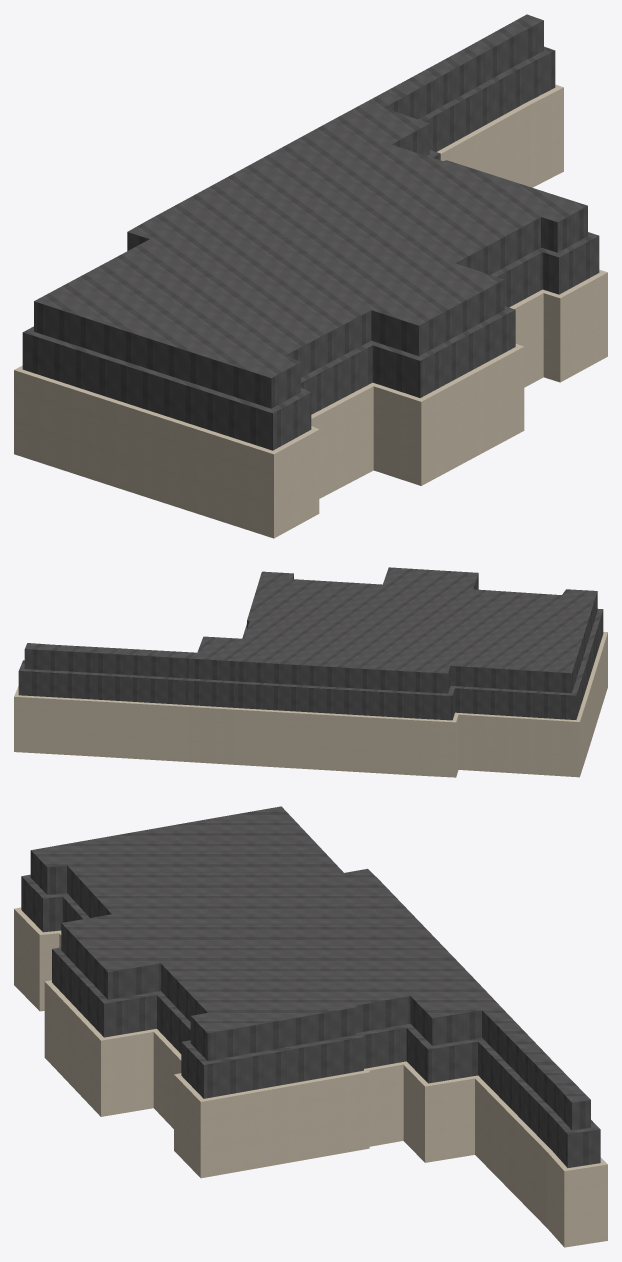
3 views of the same model, one above another, from view 1: azimuth 30°, elevation 25°; view 2: azimuth 150°, elevation 25°; view 3: azimuth 270°, elevation 25° (orthographic). The views are drawn at different scales.
Parts seen in each view (by area): view 1: lmbase_231220414_roof_b, lmbase_231220414, lmbase_231220414_roof_a; view 2: lmbase_231220414_roof_b, lmbase_231220414, lmbase_231220414_roof_a; view 3: lmbase_231220414_roof_b, lmbase_231220414, lmbase_231220414_roof_a.
Boxes of the visible parts, box(x1,y1,x2,y2) form: lmbase_231220414_roof_b: box(34, 14, 587, 408); lmbase_231220414: box(14, 84, 607, 538); lmbase_231220414_roof_a: box(22, 46, 599, 450); lmbase_231220414_roof_b: box(24, 567, 597, 693); lmbase_231220414: box(14, 632, 607, 777); lmbase_231220414_roof_a: box(18, 609, 603, 720); lmbase_231220414_roof_b: box(30, 806, 590, 1130); lmbase_231220414: box(14, 907, 607, 1247); lmbase_231220414_roof_a: box(21, 874, 600, 1167).
Bounding box in the file's own units: 71.56 × 14.8 × 57.83.
2 materials, 2 textured.
